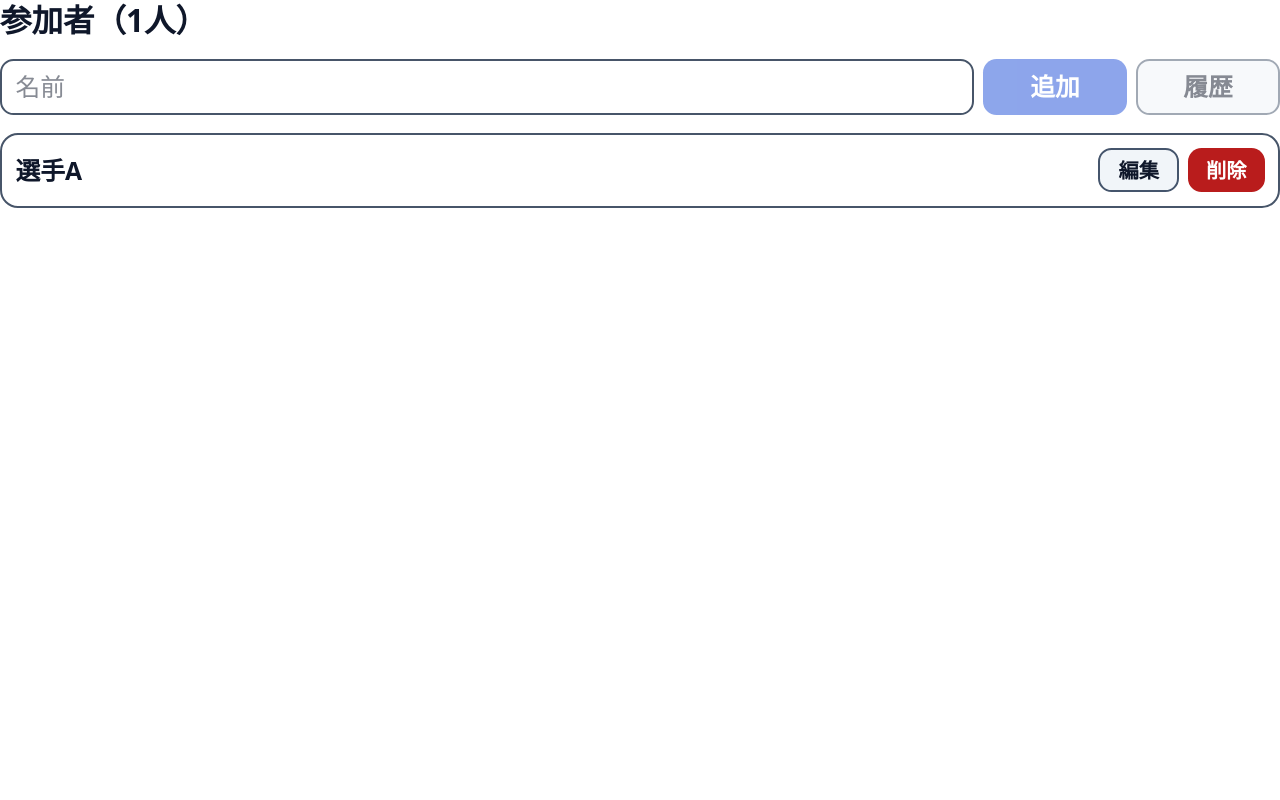
it: ParticipantsTab › 参加者削除: ConfirmModal確定で消える
# 削除ボタンをクリック
Step 1. Click the button "削除" → (1226, 170), box top-left (1188, 148), bottom-right (1264, 192)
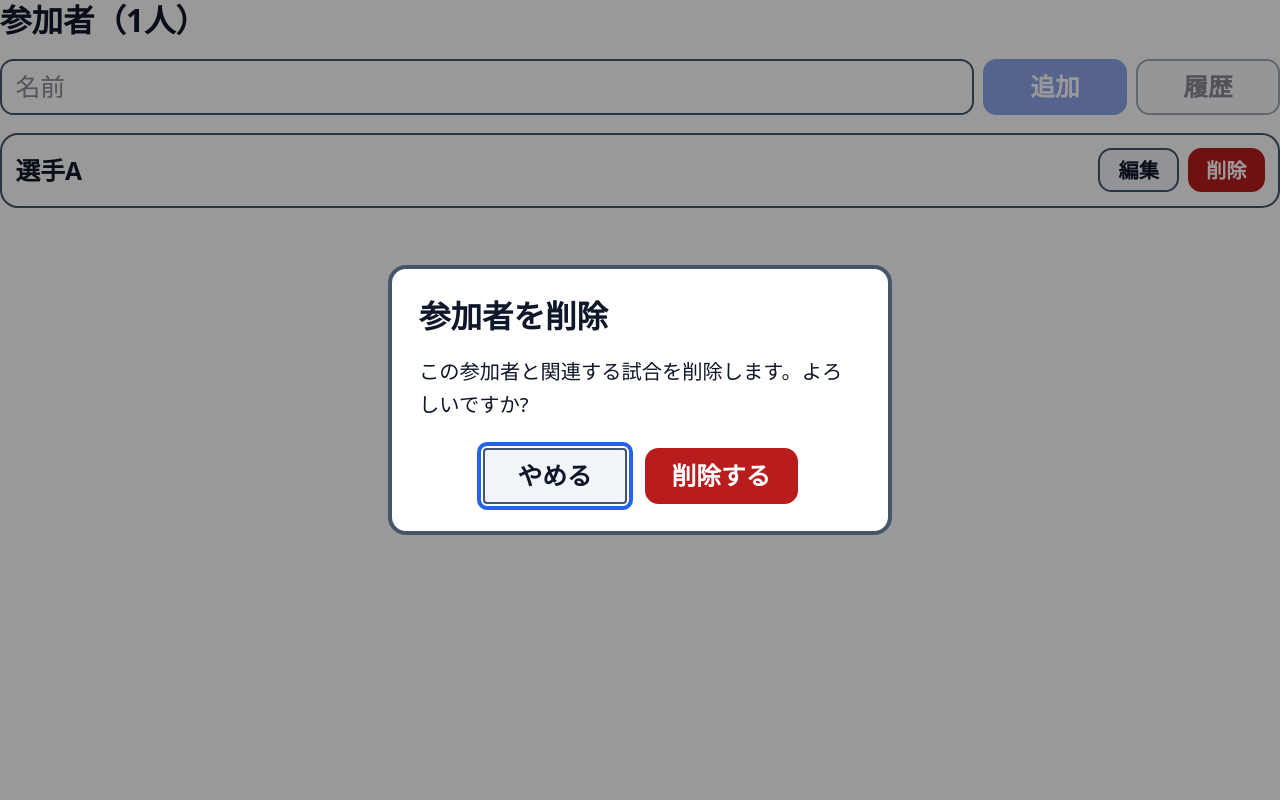
# "削除する" で確定
Step 2. Click the button "削除する" → (721, 476), box top-left (644, 448), bottom-right (798, 504)
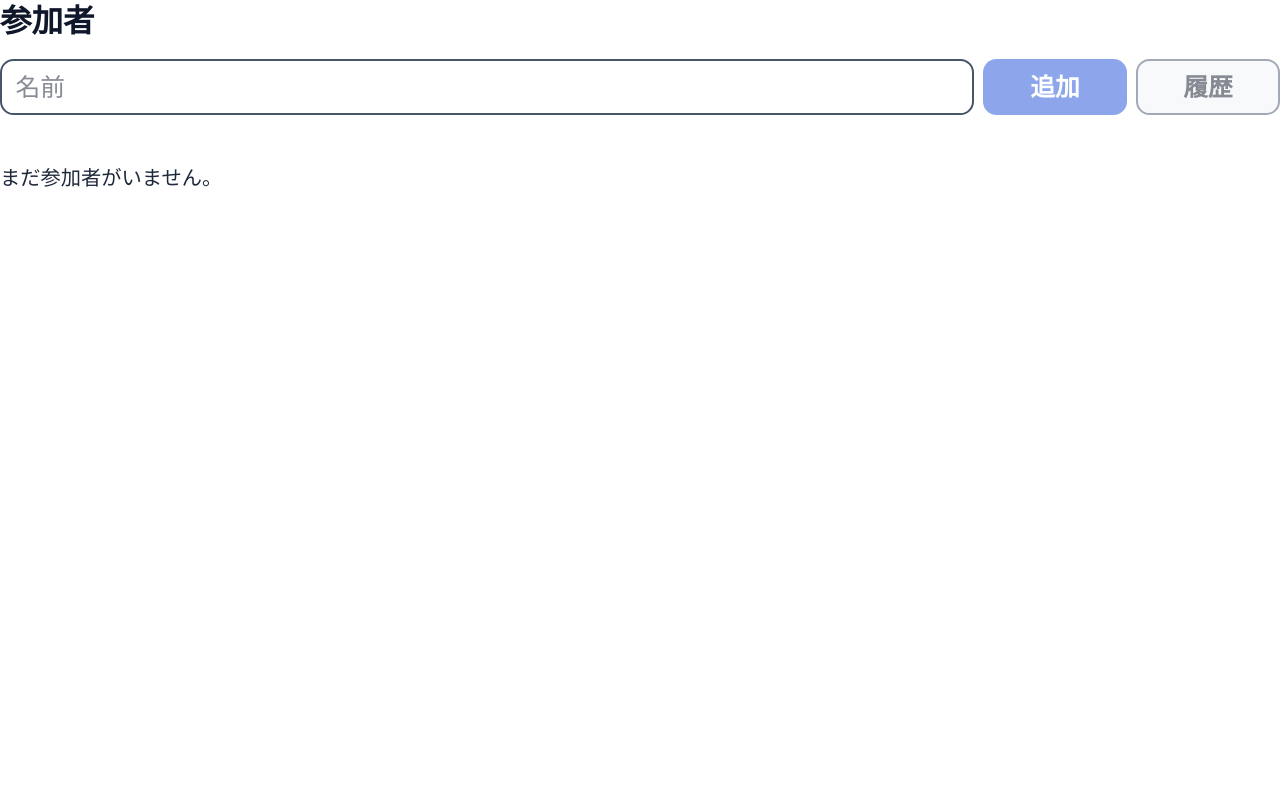
Check: the text "選手A" is gone
